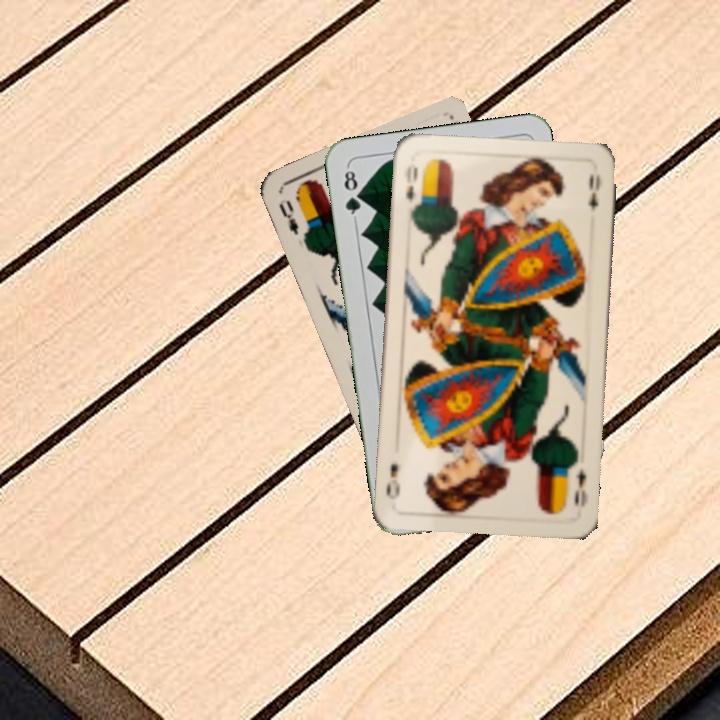EO: (275, 196, 310, 244), (400, 159, 421, 205), (570, 464, 590, 509)
G8: (340, 163, 365, 222)
